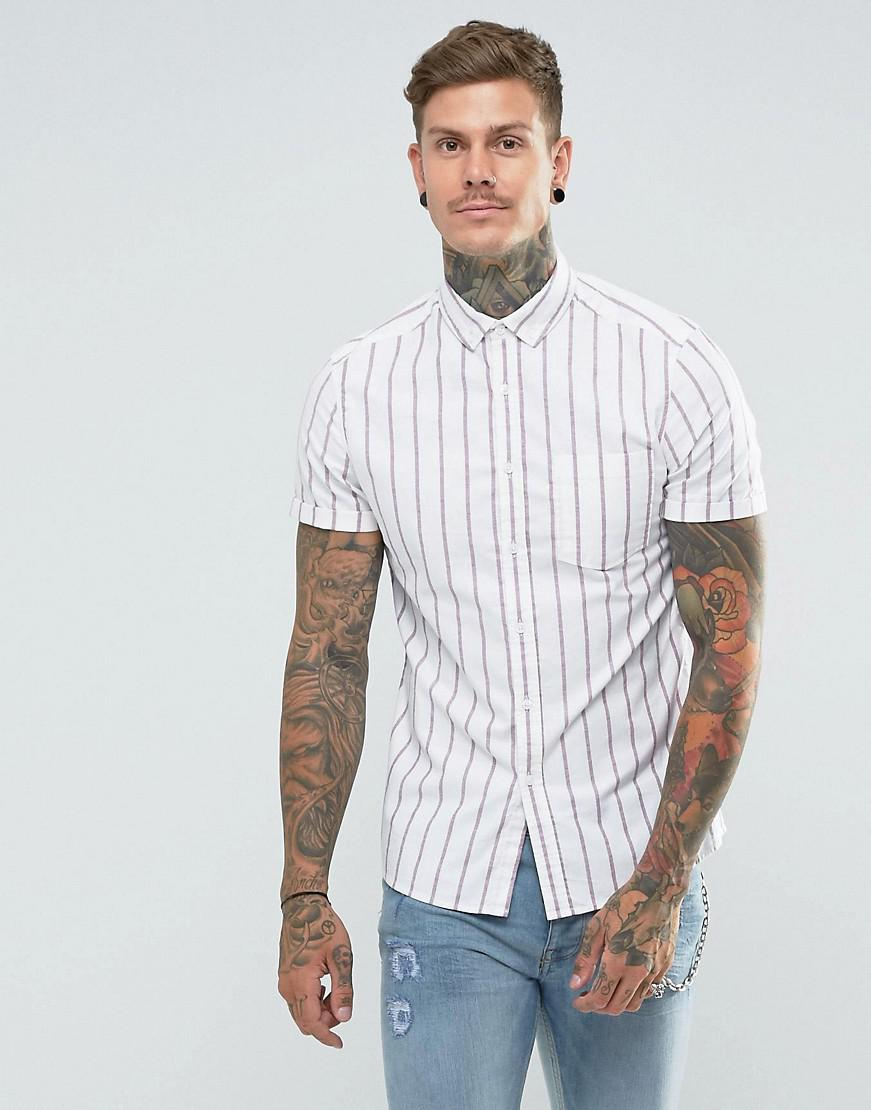teeshirt: (291, 283, 744, 891)
